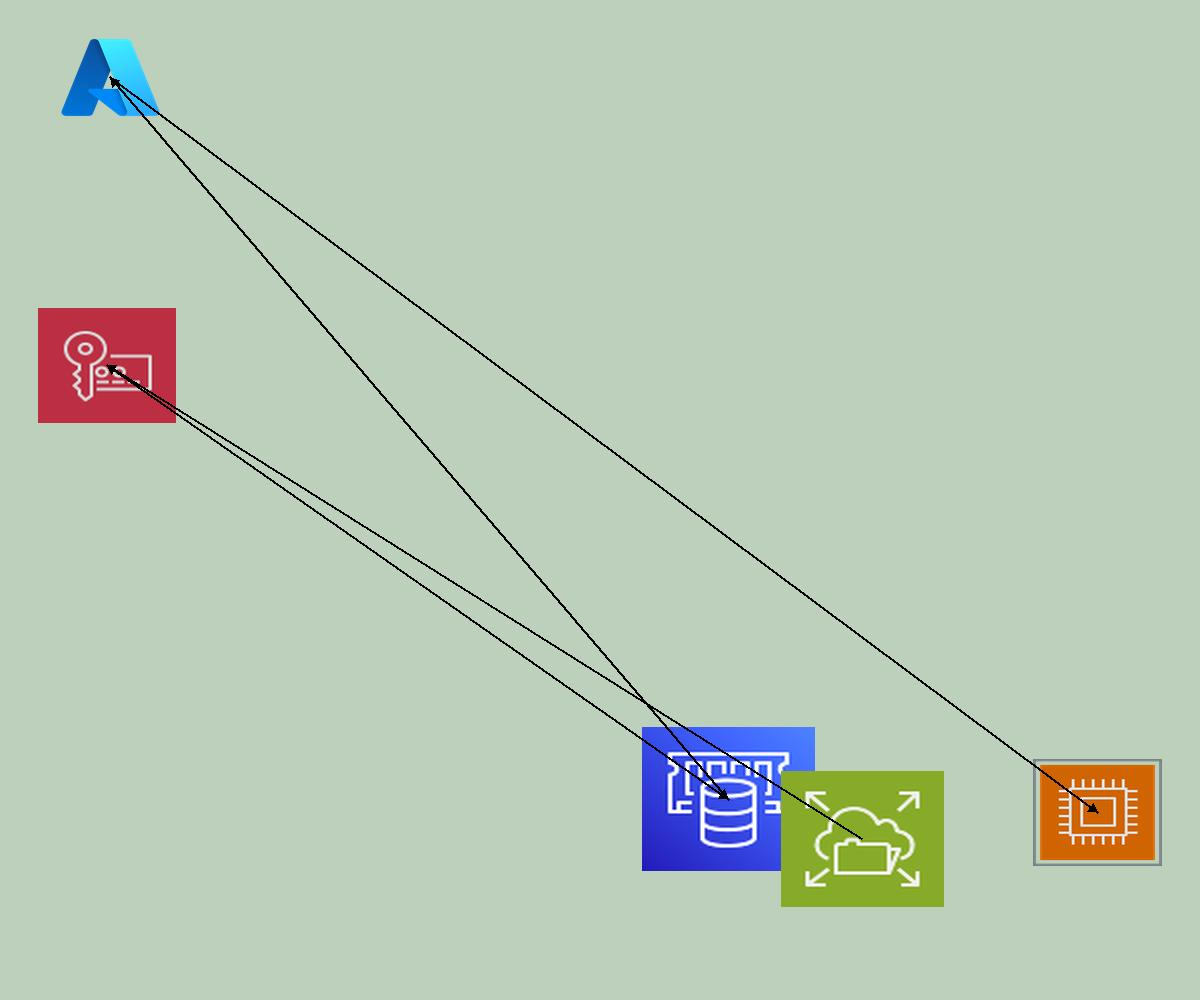AWS-Category_Compute: (1033, 759, 1162, 866)
AWS-EFS: (781, 771, 944, 907)
AWS-ElastiCache: (642, 727, 815, 871)
AWS-Key-Management-Service: (38, 308, 176, 423)
Azure_services: (57, 33, 164, 122)
